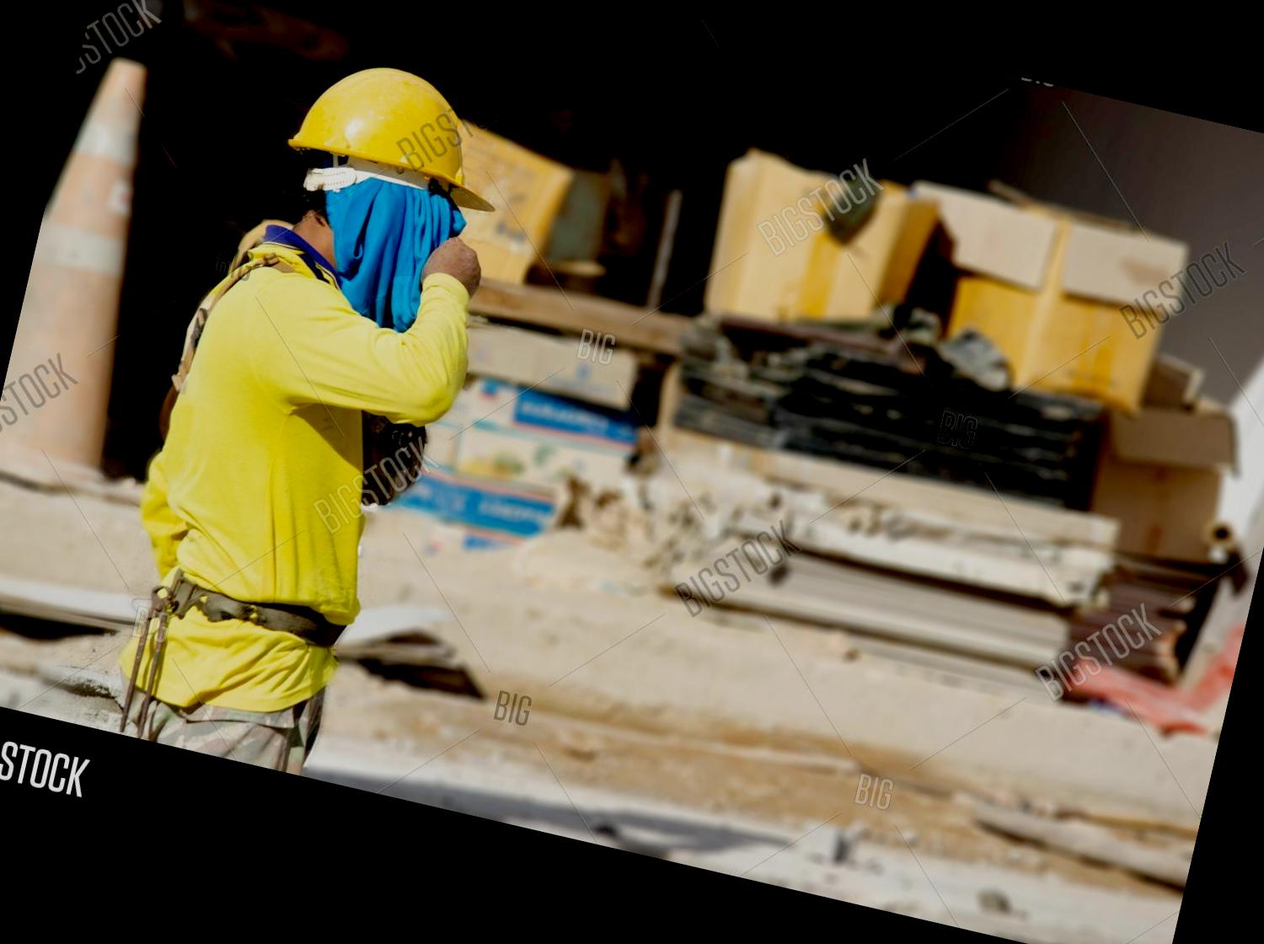helmet: (281, 53, 524, 236)
no_vest: (125, 199, 446, 659)
person: (72, 21, 539, 801)
